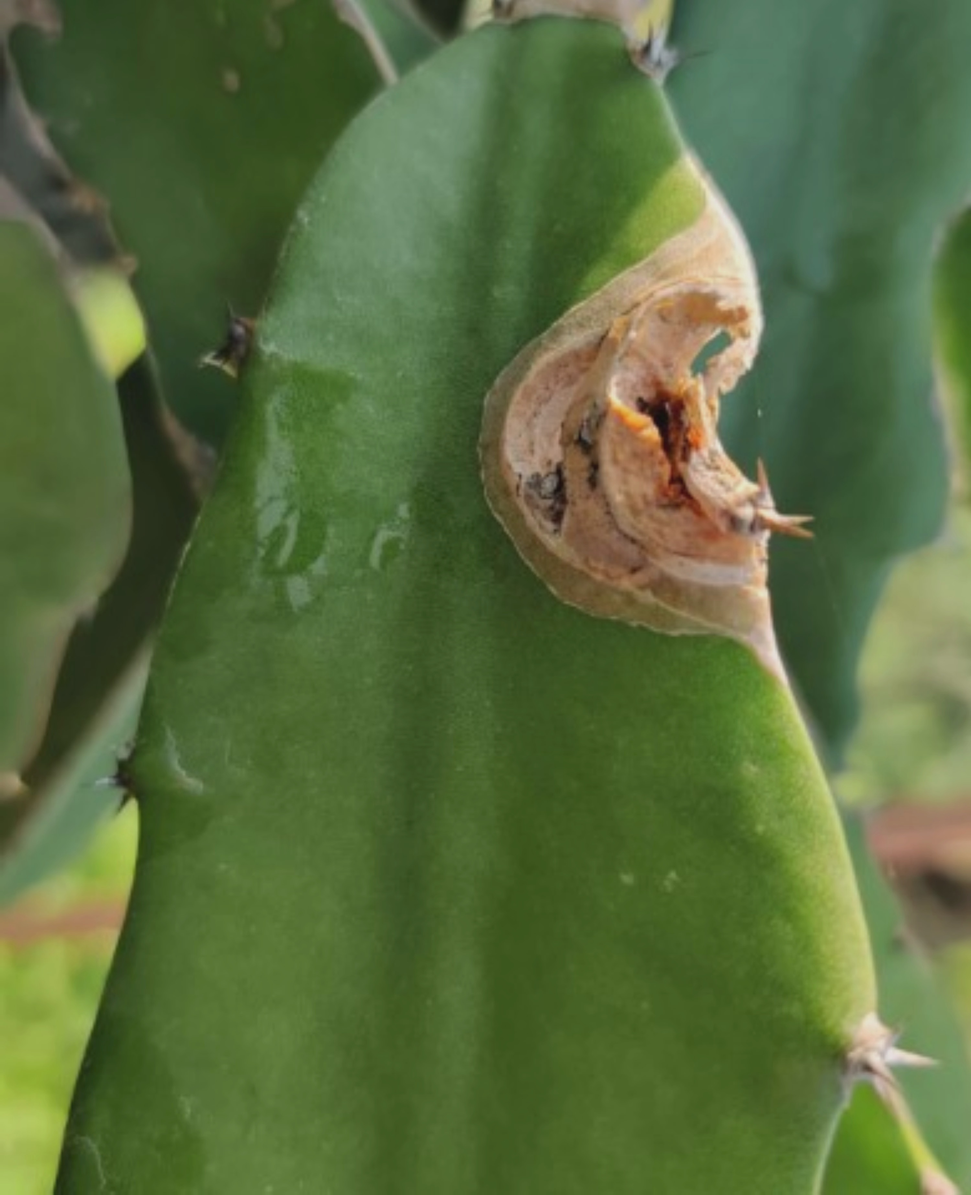stemcanker: (392, 6, 838, 709)
